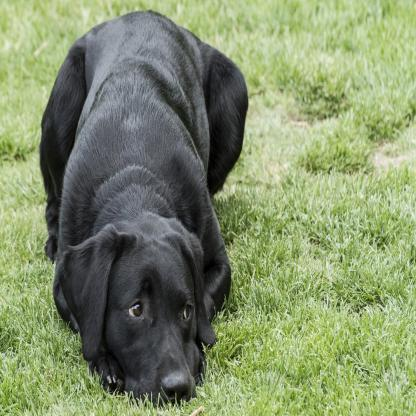dog: (38, 13, 247, 408)
